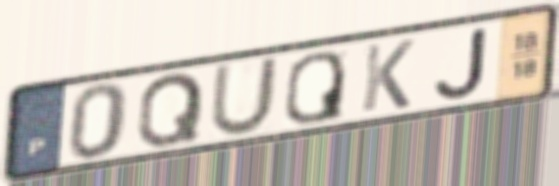0: (66, 80, 131, 163)
J: (431, 24, 492, 102)
K: (358, 36, 418, 115)
Q: (134, 69, 207, 151), (281, 49, 347, 127)
U: (207, 53, 282, 139)
